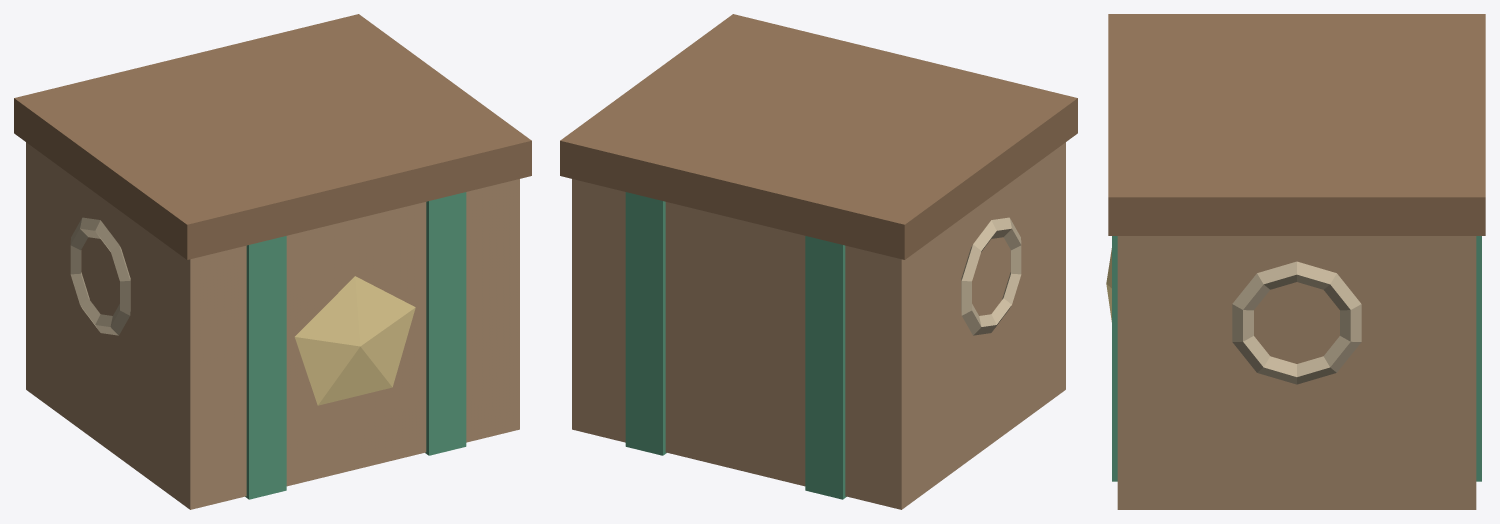
File: supply_crate.glb
The picture shows the model from 3 angles, left to right: view 1: azimuth 30°, elevation 25°; view 2: azimuth 150°, elevation 25°; view 3: azimuth 270°, elevation 25°; orthographic projection. The views are drawn at different scales.
Visible parts, largest first — view 1: Supply body, Supply lid, Supply strap.-1, Star, Rope handle.-1; view 2: Supply body, Supply lid, Supply strap.-1, Rope handle.-1; view 3: Supply body, Supply lid, Rope handle.-1, Supply strap.-1.
Boxes of the visible parts, x1=… form: Supply body: x1=26, y1=142, x2=519, y2=509; Supply lid: x1=14, y1=14, x2=531, y2=259; Supply strap.-1: x1=245, y1=192, x2=466, y2=499; Star: x1=294, y1=276, x2=415, y2=405; Rope handle.-1: x1=70, y1=217, x2=130, y2=335; Supply body: x1=572, y1=142, x2=1065, y2=509; Supply lid: x1=560, y1=14, x2=1077, y2=259; Supply strap.-1: x1=625, y1=192, x2=846, y2=499; Rope handle.-1: x1=961, y1=217, x2=1021, y2=335; Supply body: x1=1117, y1=236, x2=1476, y2=509; Supply lid: x1=1108, y1=14, x2=1485, y2=235; Rope handle.-1: x1=1232, y1=261, x2=1361, y2=384; Supply strap.-1: x1=1112, y1=236, x2=1481, y2=481.
Size of the model in its own units: 0.4744 by 0.372 by 0.402.
